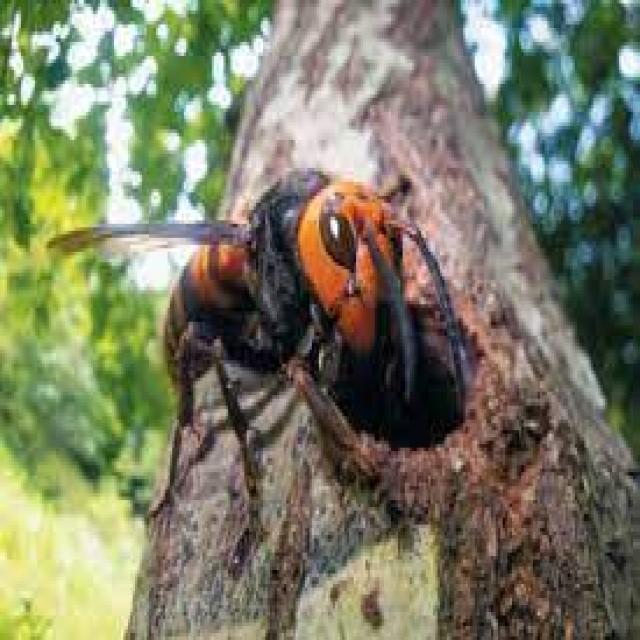Wasp: (33, 139, 469, 515)
